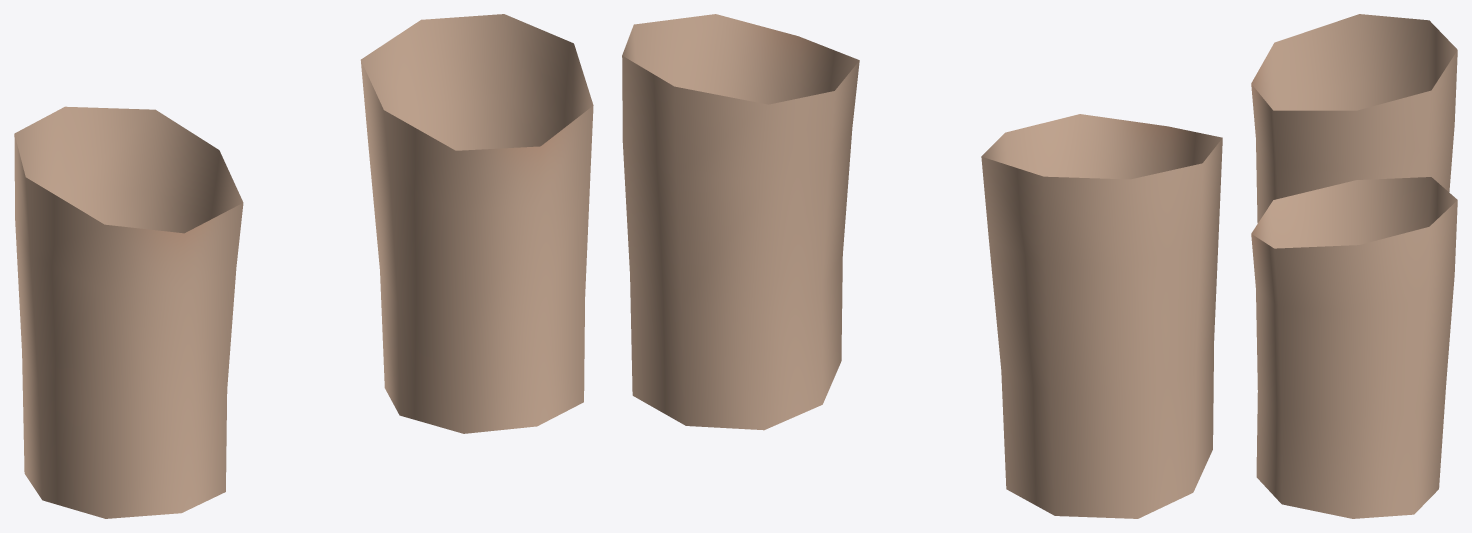
The model's file is Body_White_LegA_2.fbx.
3 views of the same model, side by side, from view 1: azimuth 30°, elevation 25°; view 2: azimuth 150°, elevation 25°; view 3: azimuth 270°, elevation 25° (orthographic). The views are drawn at different scales.
Visible parts, largest first — view 1: Body_White_LegA_2; view 2: Body_White_LegA_2; view 3: Body_White_LegA_2.
Part boxes in pixels (bbox=[...]): Body_White_LegA_2: bbox=[14, 14, 593, 518]; Body_White_LegA_2: bbox=[622, 14, 1222, 518]; Body_White_LegA_2: bbox=[1251, 14, 1457, 518].
Size of the model in its own units: 31.33 by 18.38 by 11.84.
